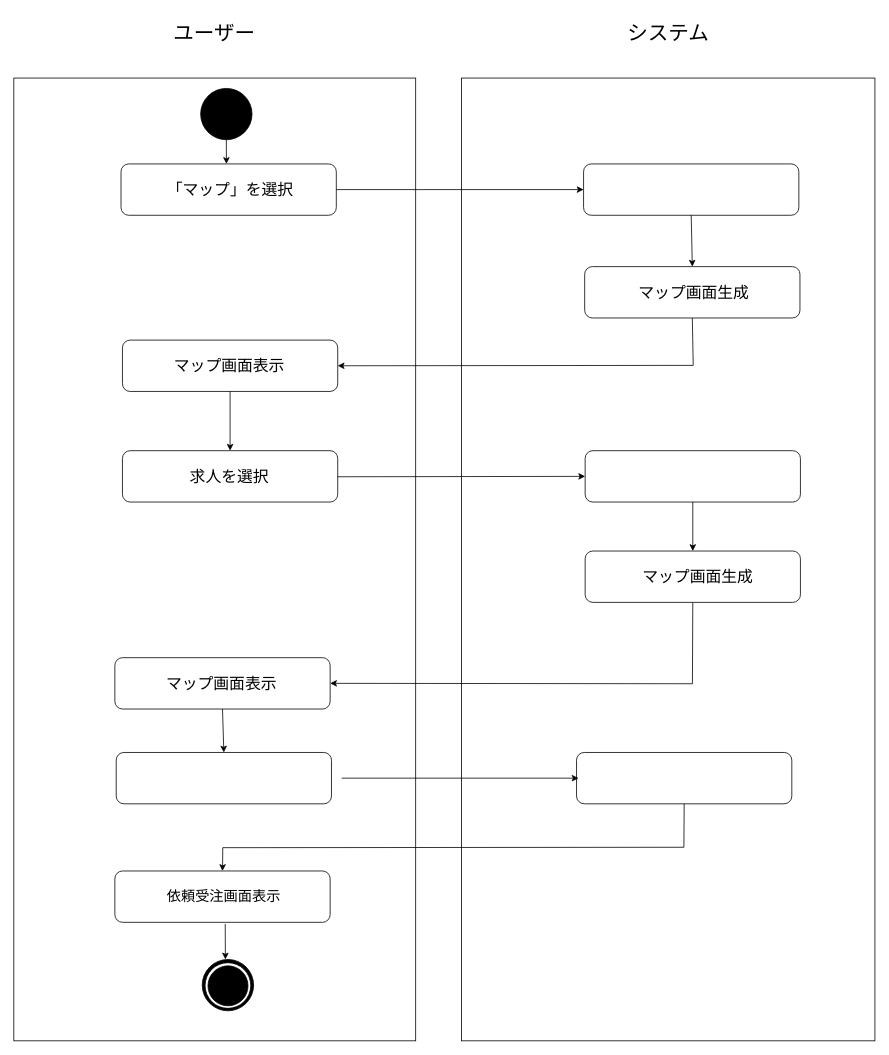
Image size: 889x1055. Some labels were removed from this diagram. Each missing label, with the box of its shape:
位置情報を取得: (583, 163, 799, 215)
依頼受注画面生成: (576, 752, 792, 804)
求人を再選択: (115, 752, 331, 804)
現在地からのルート生成: (584, 450, 800, 502)
